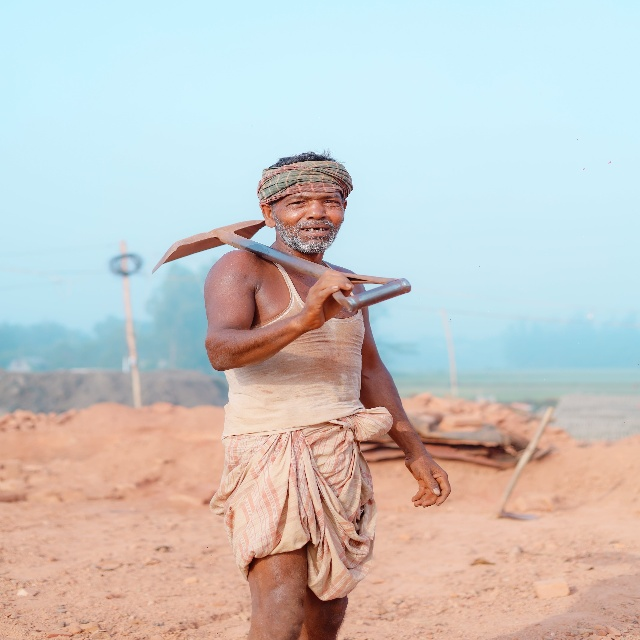Sin_guantes: (301, 269, 355, 331), (404, 448, 451, 508)
